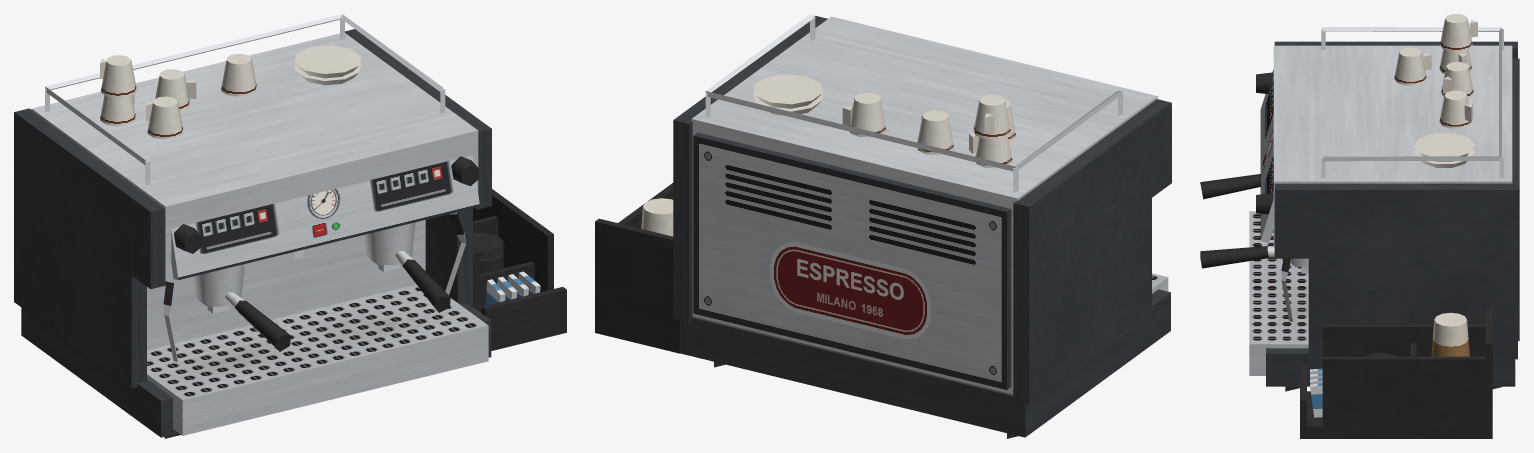
The model's file is cafetera.glb.
The picture shows the model from 3 angles, left to right: view 1: azimuth 30°, elevation 25°; view 2: azimuth 150°, elevation 25°; view 3: azimuth 270°, elevation 25°; orthographic projection. The views are drawn at different scales.
Parts seen in each view (by area): view 1: Cafetera; view 2: Cafetera; view 3: Cafetera.
Boxes of the visible parts, x1,y1,x2,y2 form: Cafetera: [14, 14, 566, 438]; Cafetera: [595, 14, 1171, 438]; Cafetera: [1200, 14, 1519, 438].
Bounding box in the file's own units: 0.782 × 0.514 × 0.5645.
Materials: 1 (1 with a texture image).
